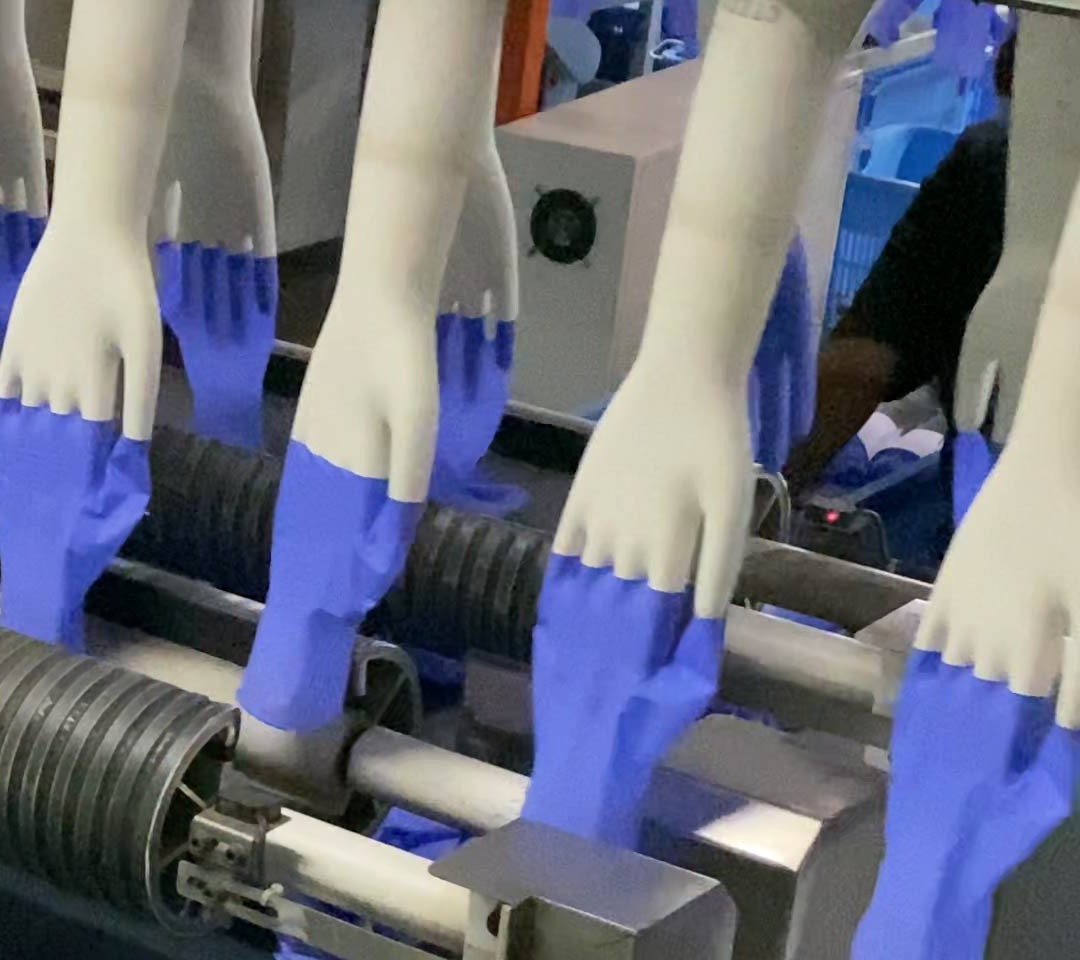glove: (849, 649, 1080, 960), (518, 548, 723, 845), (238, 432, 421, 730), (1, 395, 159, 671), (144, 234, 279, 450)
